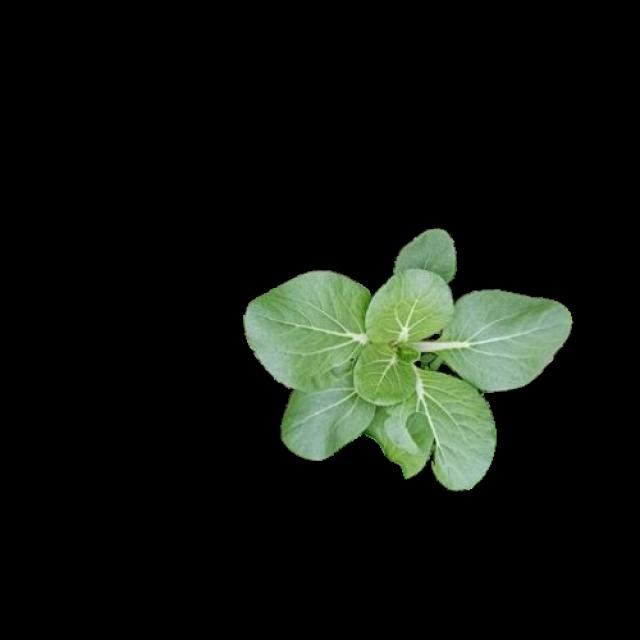healthy: (245, 228, 570, 488)
not-mature: (247, 230, 572, 490)
